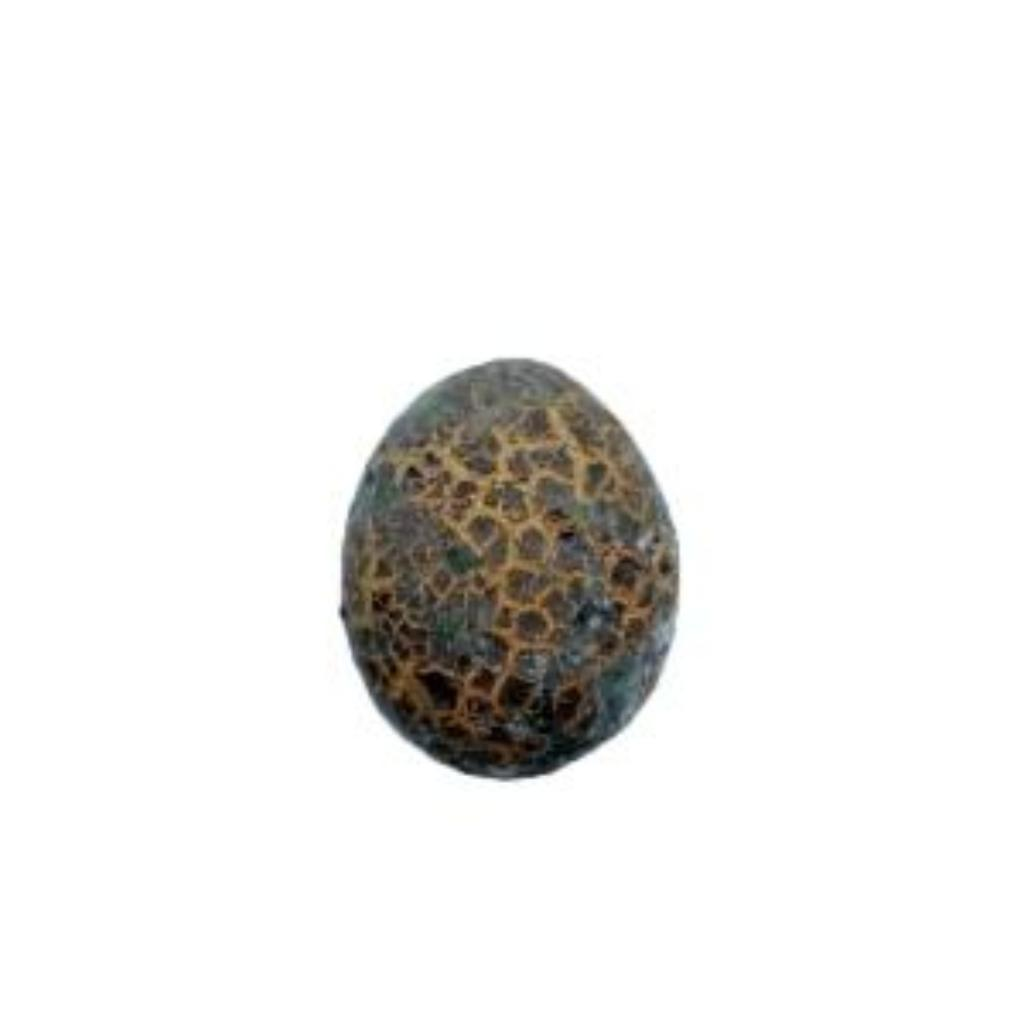cercospora: (312, 343, 716, 783)
